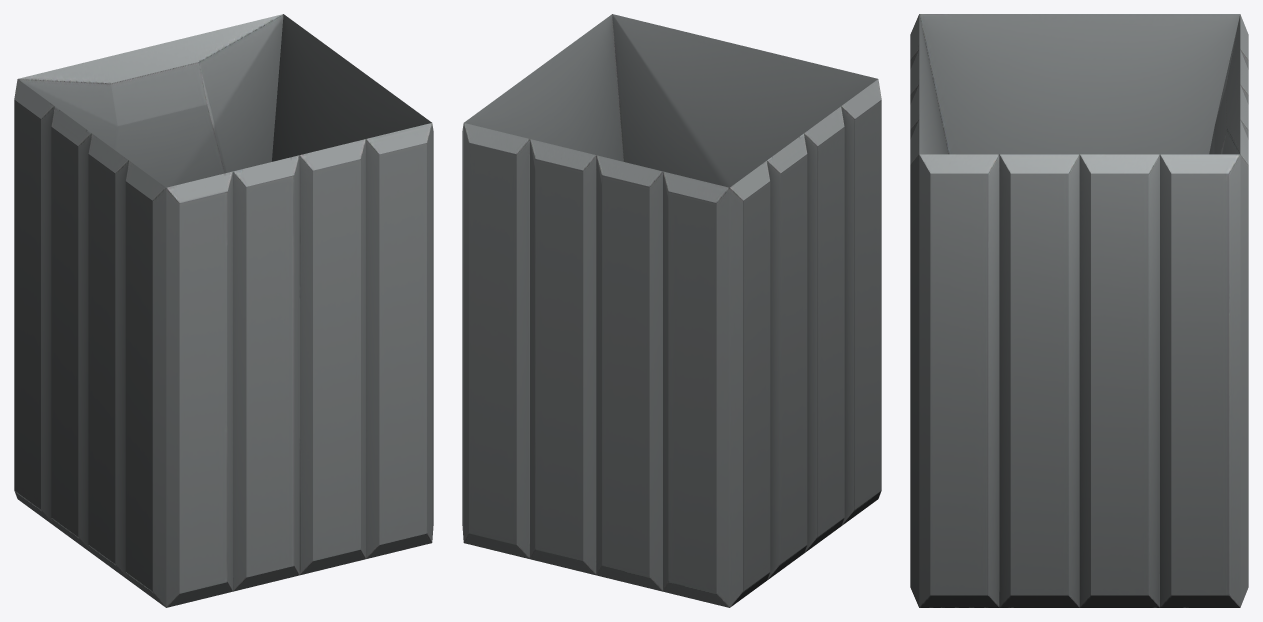
Rendered from trash.glb.
The picture shows the model from 3 angles, left to right: view 1: azimuth 30°, elevation 25°; view 2: azimuth 150°, elevation 25°; view 3: azimuth 270°, elevation 25°; orthographic projection. The views are drawn at different scales.
Visible parts, largest first — view 1: Cube; view 2: Cube; view 3: Cube.
Boxes of the visible parts, left/top/right/bottom form: Cube: left=14, top=14, right=433, bottom=607; Cube: left=462, top=14, right=881, bottom=607; Cube: left=910, top=14, right=1248, bottom=607.
Size of the model in its own units: 2.63 by 3.76 by 2.54.
Materials: 1 (1 with a texture image).
